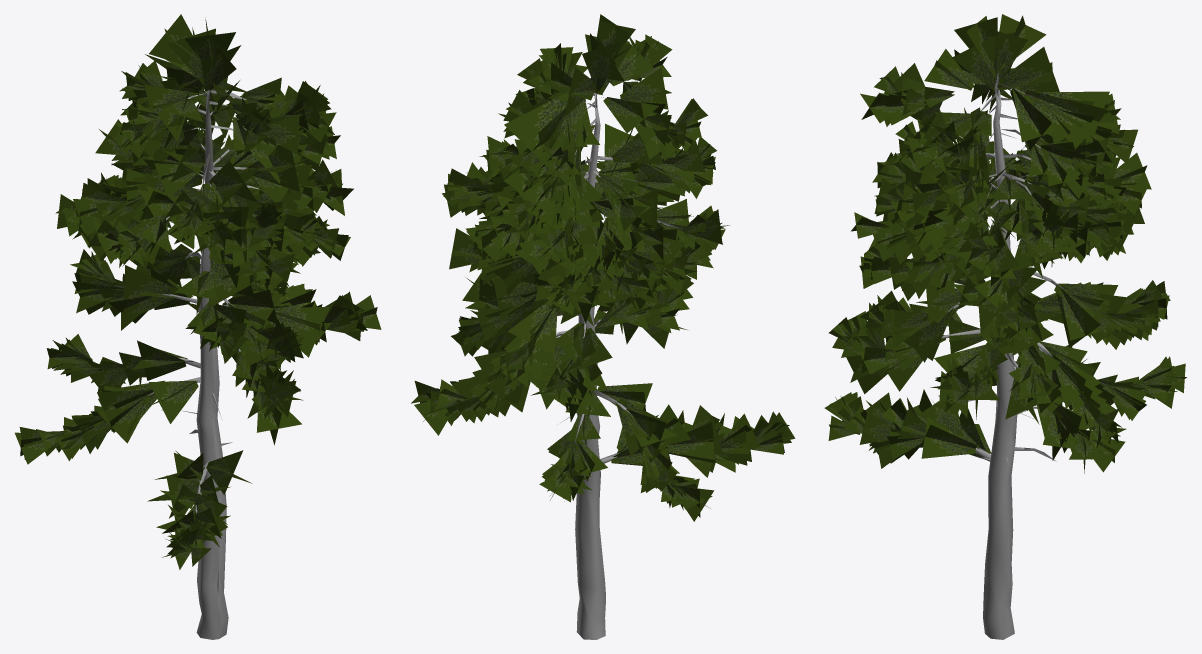
Rendered from pine3 lod1.FBX.
3 renders of one model, left to right at view 1: azimuth 30°, elevation 25°; view 2: azimuth 150°, elevation 25°; view 3: azimuth 270°, elevation 25°, orthographic.
Parts seen in each view (by area): view 1: pine3_LOD1; view 2: pine3_LOD1; view 3: pine3_LOD1.
Part boxes in pixels (<box>): pine3_LOD1: <box>15,14,381,639</box>; pine3_LOD1: <box>411,14,795,639</box>; pine3_LOD1: <box>824,14,1186,639</box>.
Size of the model in its own units: 178108 by 346402 by 186121.
